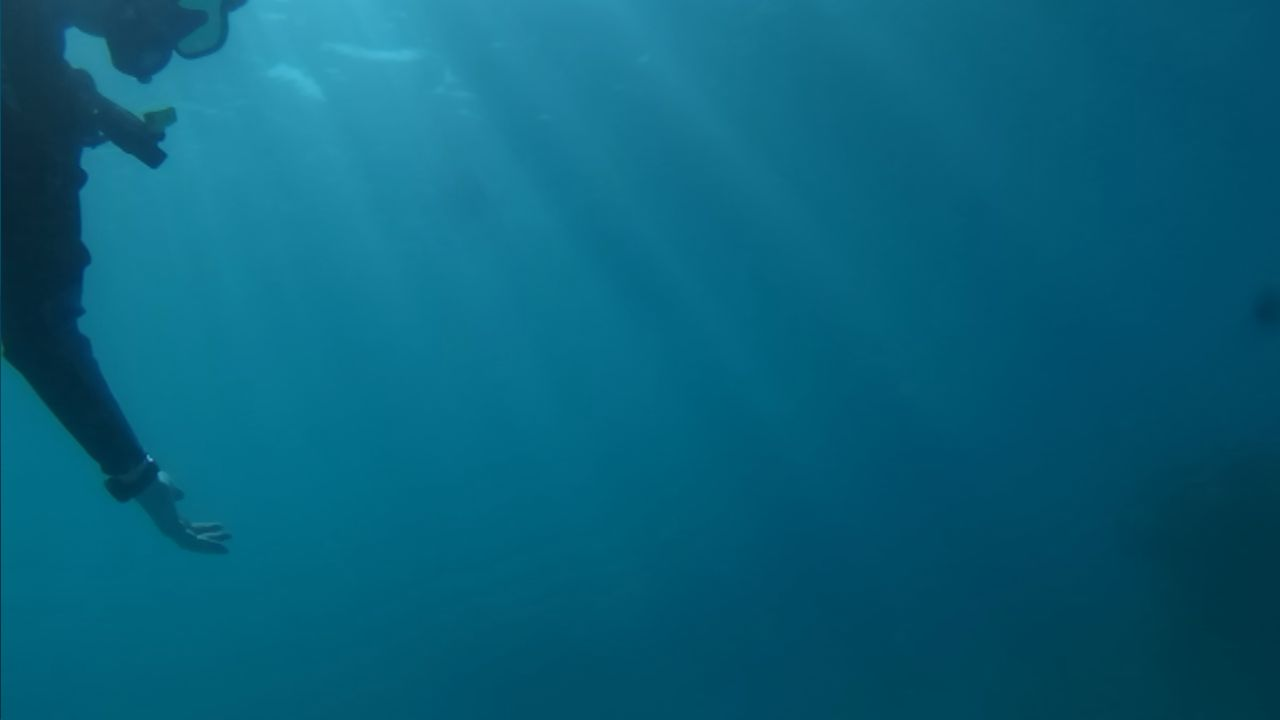Diver: (8, 4, 244, 572)
Hand: (122, 464, 240, 570)
